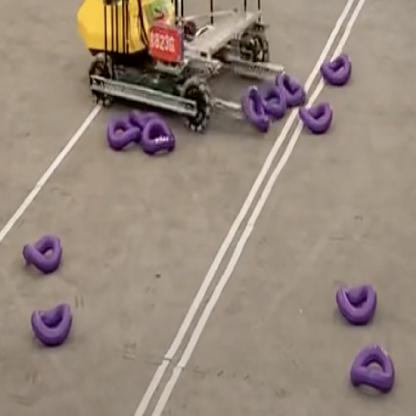ring: (350, 342, 394, 392), (335, 282, 377, 325), (30, 303, 73, 344), (21, 233, 61, 272), (242, 84, 269, 133), (141, 117, 176, 151), (297, 102, 332, 133), (274, 70, 305, 102), (106, 118, 140, 147), (321, 52, 351, 84), (259, 86, 286, 117), (129, 106, 157, 125)
